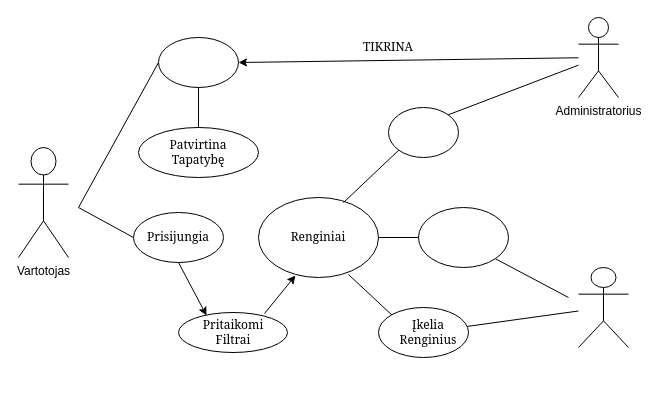
Image size: 661x401. Some labels were removed from this diagram. Each missing label, with the box of its shape:
Prižiūri: (388, 106, 458, 158)
Redaguoja esamus renginius: (418, 206, 508, 268)
Registruojasi: (158, 36, 238, 88)
Renginių Organizatorius: (578, 266, 628, 348)
